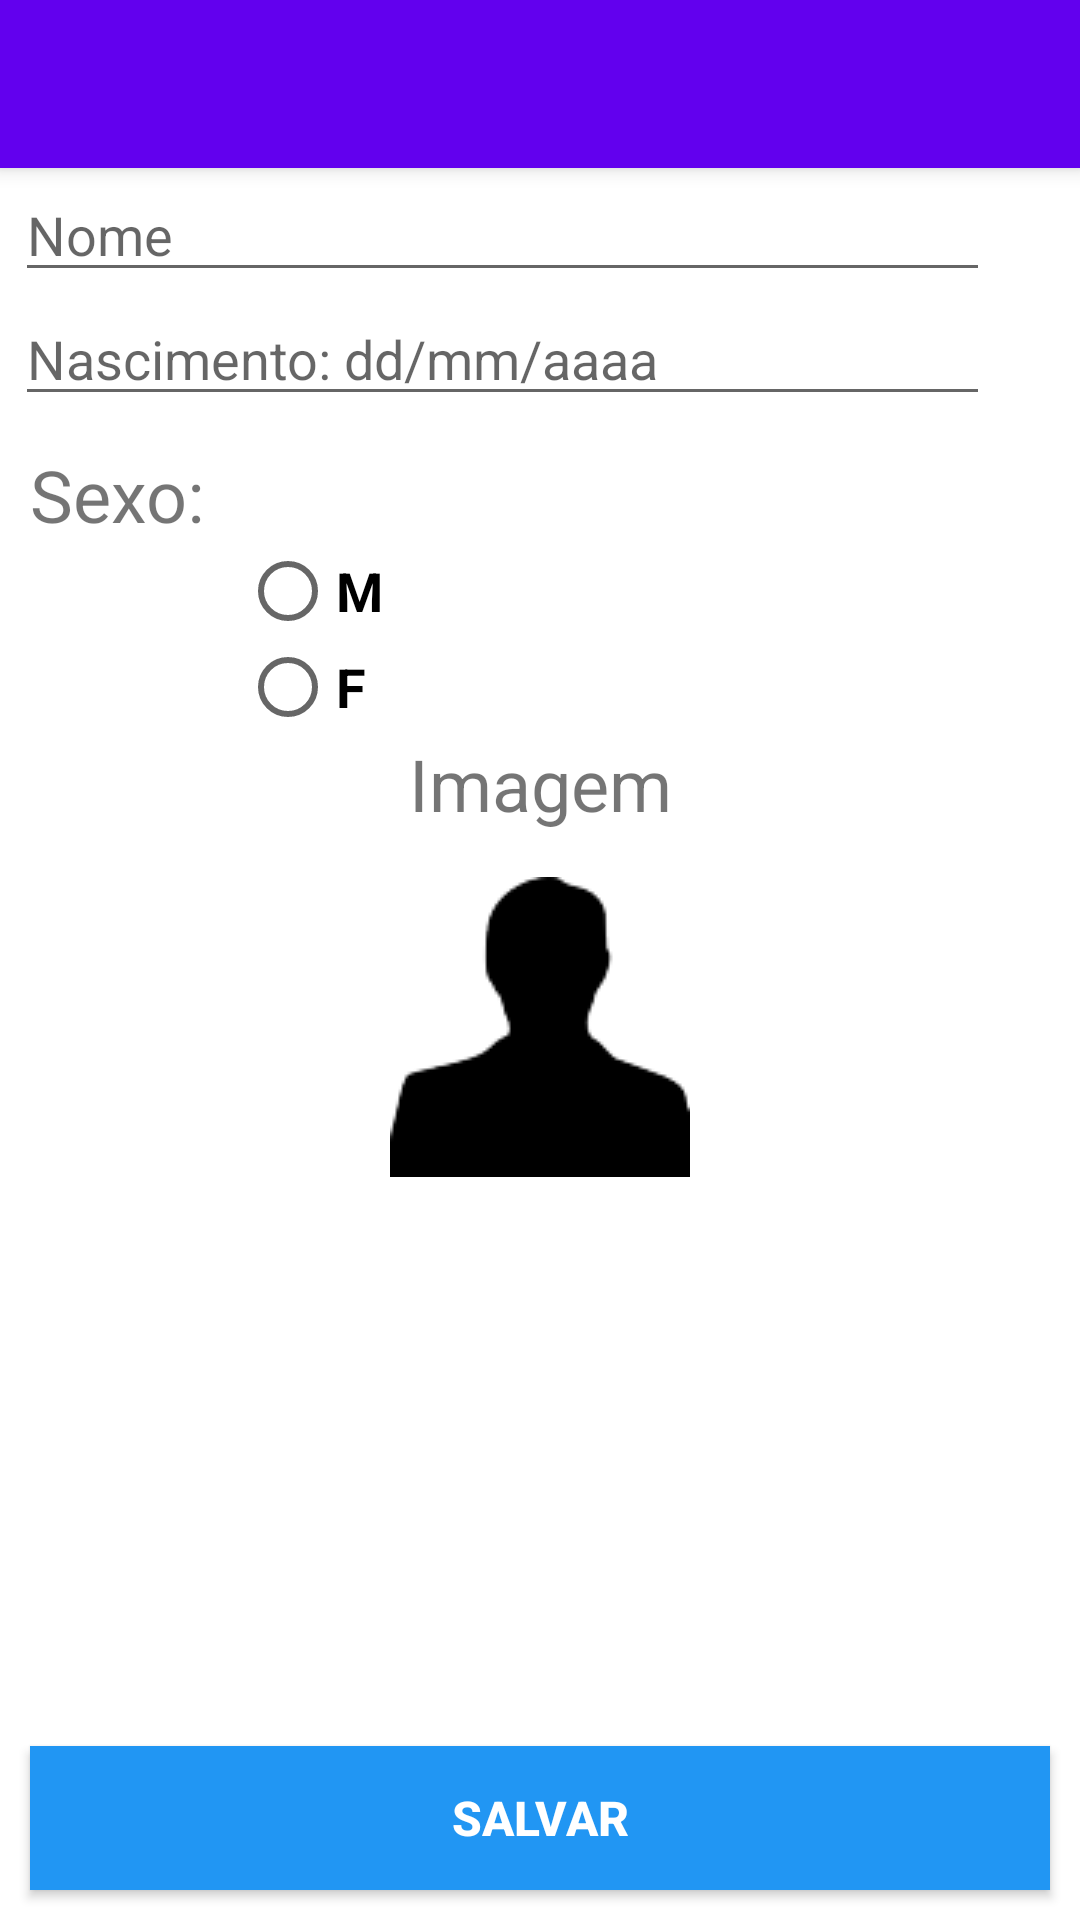

Named icons in this screenshot (1080x1920) and their bounding boxes, rect(x1, y1, x2, y2):
silouhette: rect(390, 877, 690, 1177)
